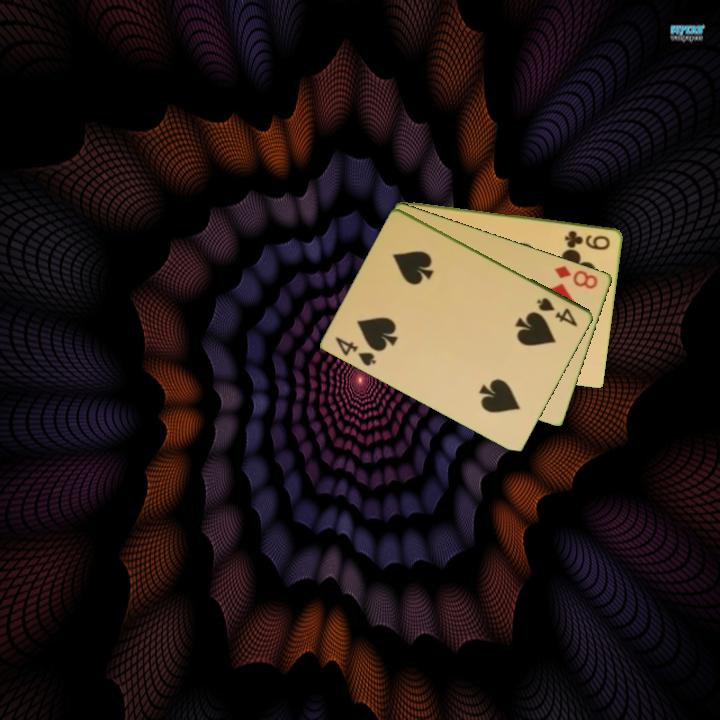4s: (332, 333, 380, 369), (534, 294, 581, 329)
8d: (551, 262, 601, 292)
9c: (561, 227, 613, 252)
